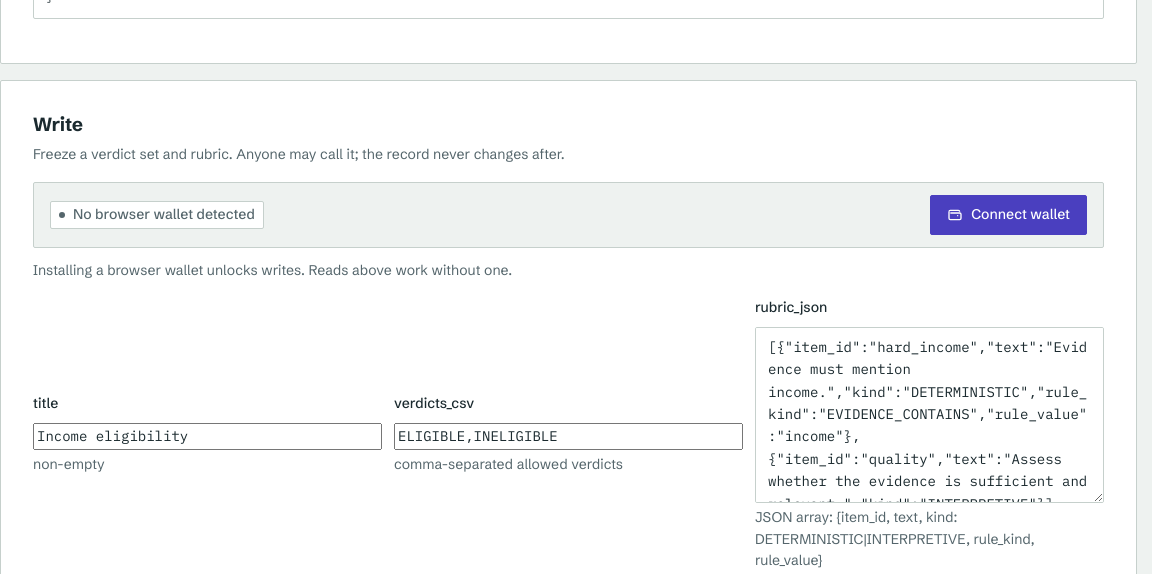
Test case: LiveScreen writes › shows a declined signature as a failure, not as pending
(page scrolled)
Click the button "Connect wallet" at (1009, 215), box [930,195,1087,234]
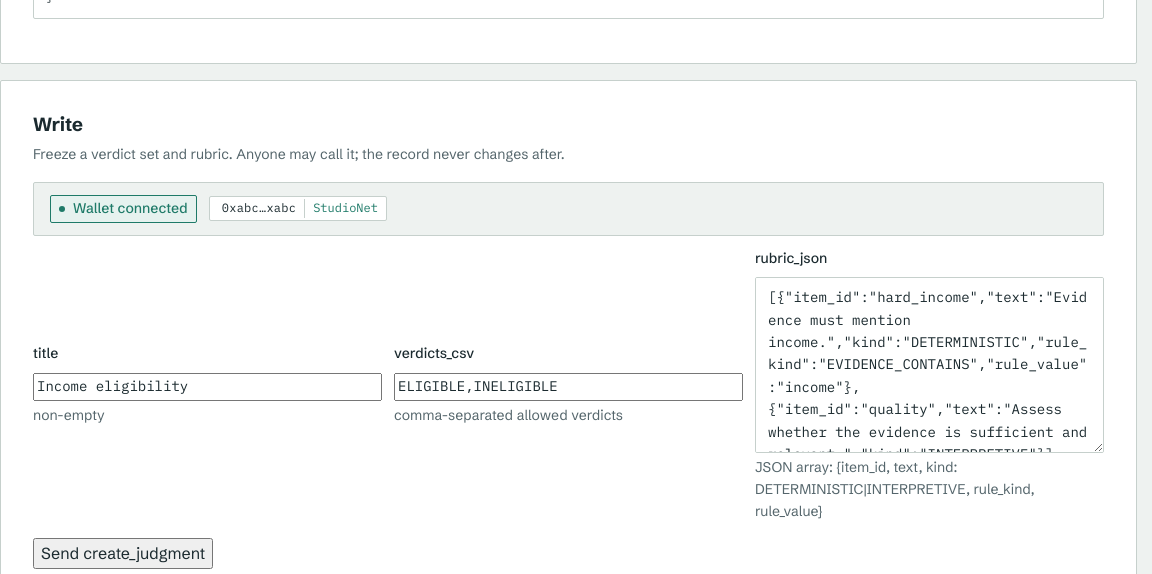
Click the button "Send create_judgment" at (123, 554), box [33,538,213,569]
(page scrolled)
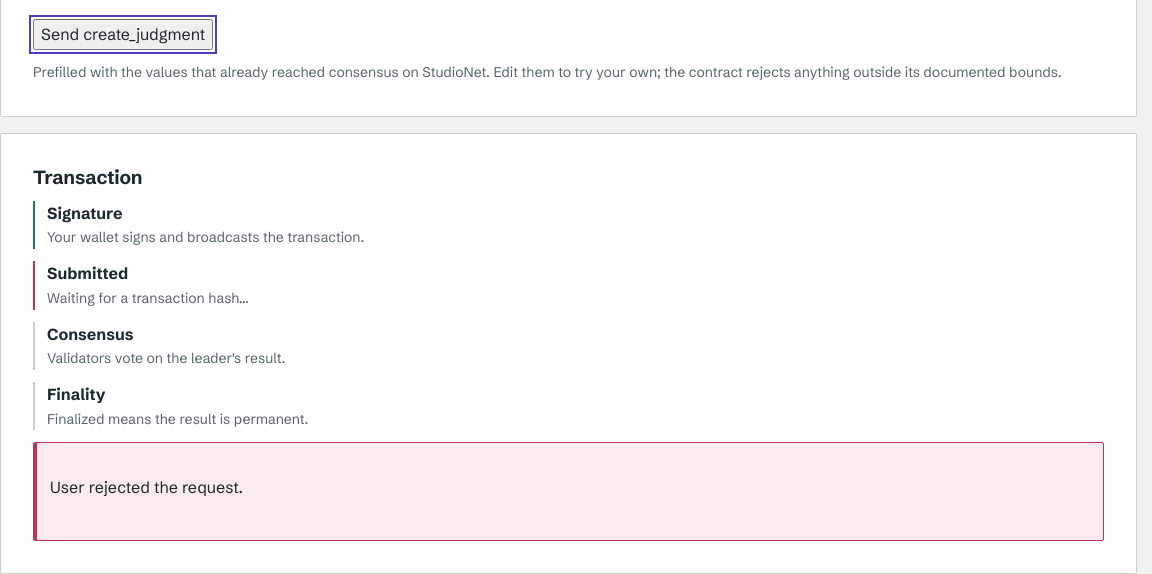
Now the message reads "User rejected the request.", box [50,478,243,498]
